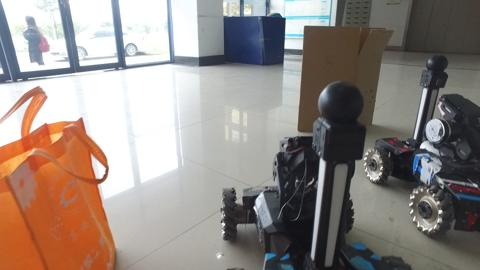chariot: (212, 81, 415, 269), (363, 54, 479, 238)
